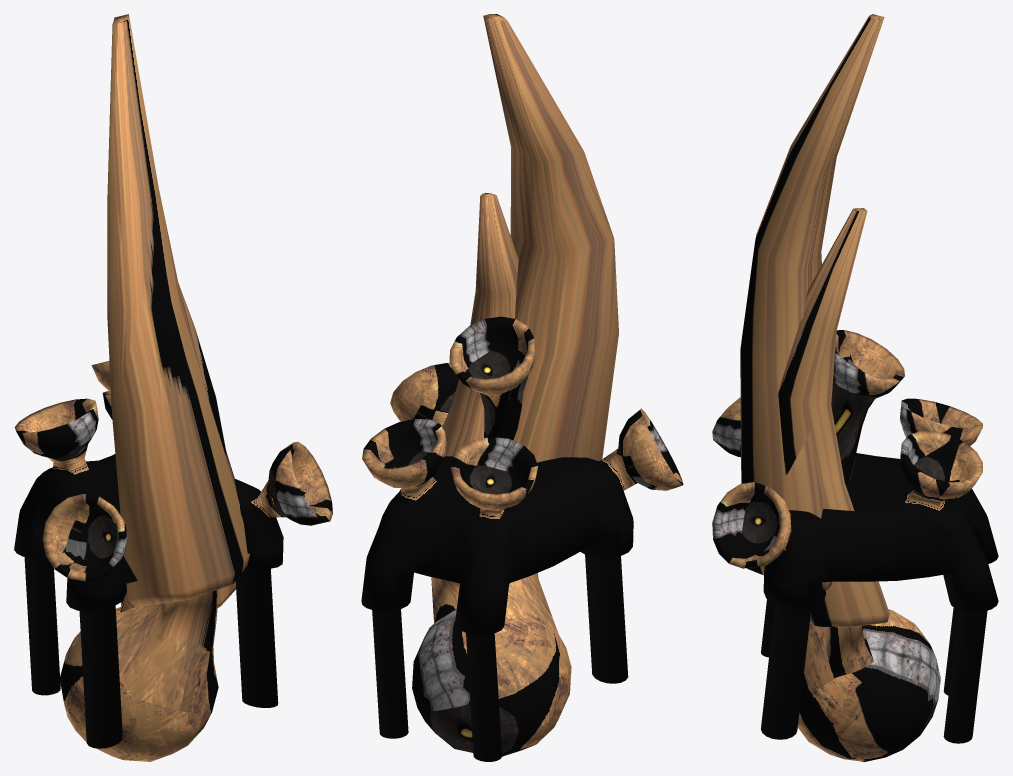
Rendered from backMOCK.glb.
3 renders of one model, left to right at view 1: azimuth 30°, elevation 25°; view 2: azimuth 150°, elevation 25°; view 3: azimuth 270°, elevation 25°, orthographic.
Parts seen in each view (by area): view 1: 10, 0, 5; view 2: 0, 10, 5, 3; view 3: 0, 10, 5, 3.
Boxes of the visible parts, x1=… form: 10: x1=59, y1=14, x2=249, y2=761; 0: x1=14, y1=391, x2=332, y2=748; 5: x1=178, y1=284, x2=235, y2=607; 0: x1=361, y1=363, x2=683, y2=761; 10: x1=412, y1=14, x2=618, y2=756; 5: x1=431, y1=193, x2=518, y2=622; 3: x1=449, y1=316, x2=535, y2=440; 0: x1=712, y1=397, x2=998, y2=743; 10: x1=740, y1=14, x2=940, y2=761; 5: x1=778, y1=208, x2=889, y2=677; 3: x1=831, y1=330, x2=904, y2=485.
Bounding box in the file's own units: 1.49 × 3.7 × 1.31.
Materials: 1 (1 with a texture image).
